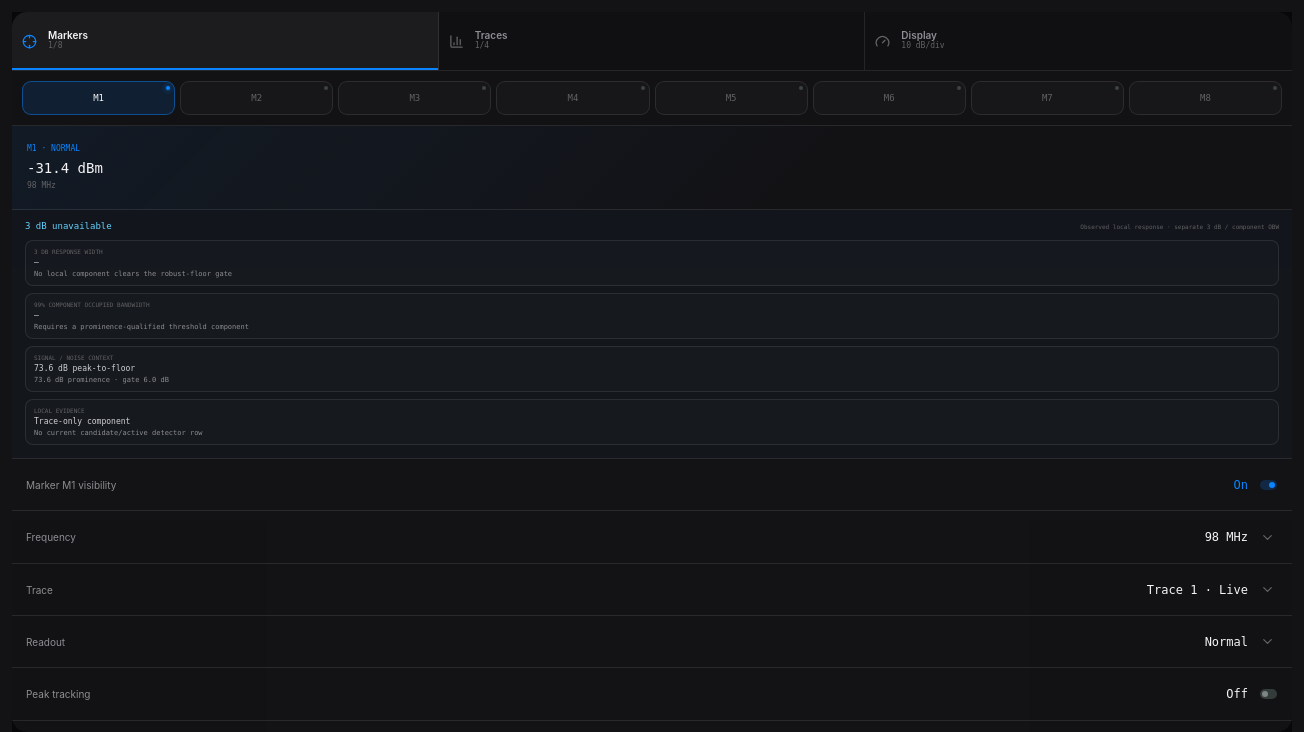
Test: desktop navigation and compact measurement layout › binds the DEV marker readout diagnostic to its source sweep
Expected: the navigation bar named "Measurement controls" is shown, 12,12 -> 1292,71
Expected: the button named "Markers1/8" is shown, 12,12 -> 439,70
Click the button named "Traces1/4" at (491, 35), box 439,12 -> 865,70
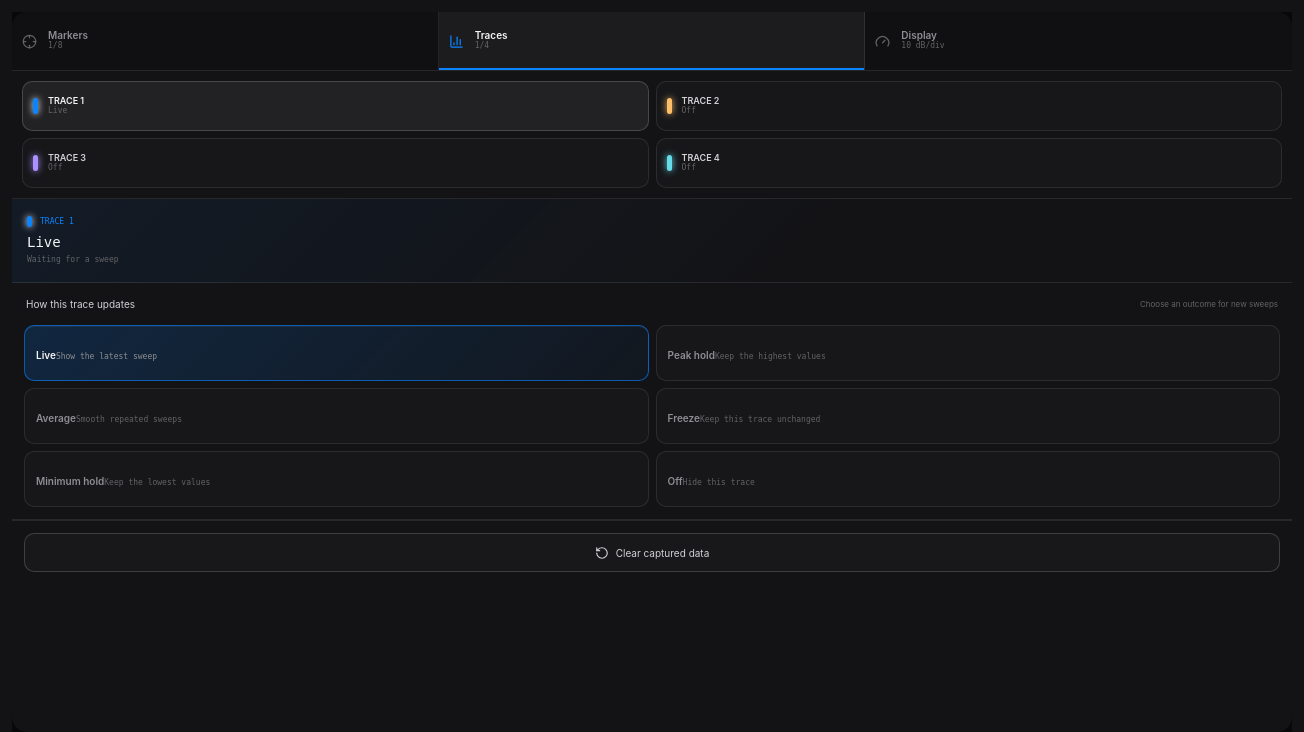
Now the text "TRACE 4" is shown, box 682,152 -> 720,163
